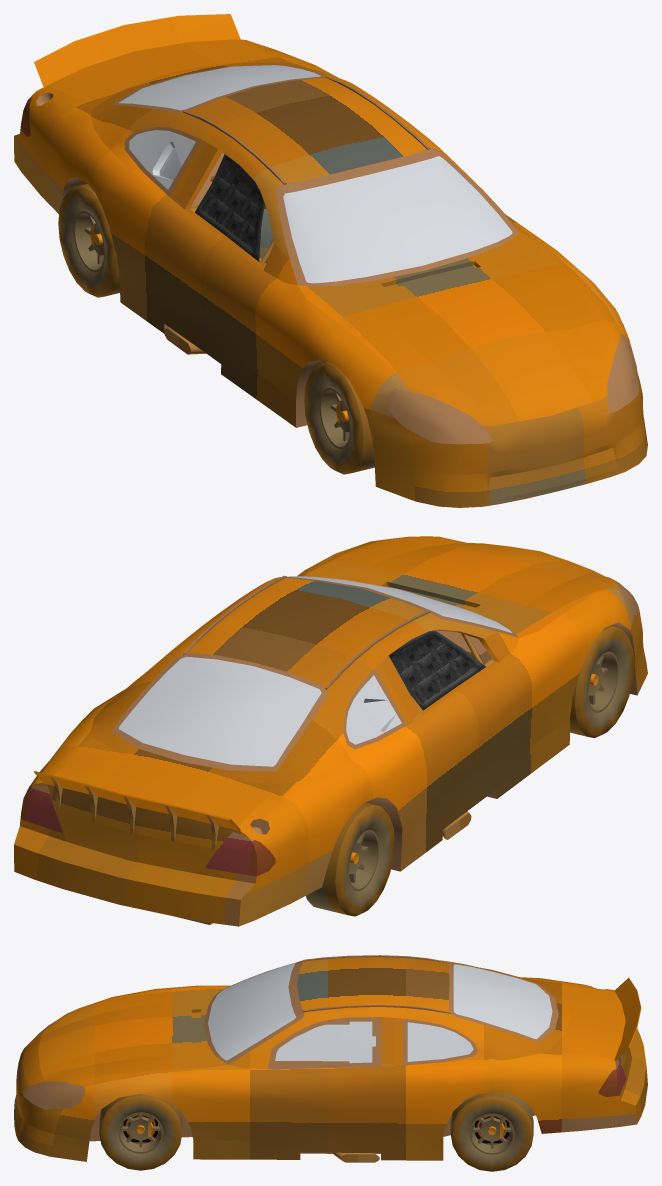
The model's file is TAURUS_STOCK_D.glb.
3 renders of one model, top to bottom at view 1: azimuth 30°, elevation 25°; view 2: azimuth 150°, elevation 25°; view 3: azimuth 270°, elevation 25°, orthographic. The views are drawn at different scales.
Visible parts, largest first — view 1: tree_node_2f9b74, WHEEL_STATIC_0x2f9eb4, WHEEL_STATIC_0x2f9dfc; view 2: tree_node_2f9b74, WHEEL_STATIC_0x2f9dfc, WHEEL_STATIC_0x2f9eb4; view 3: tree_node_2f9b74, WHEEL_STATIC_0x2fa024, WHEEL_STATIC_0x2f9f6c.
Boxes of the visible parts, left/top/right/bottom form: tree_node_2f9b74: left=14, top=14, right=647, bottom=507; WHEEL_STATIC_0x2f9eb4: left=304, top=362, right=374, bottom=474; WHEEL_STATIC_0x2f9dfc: left=58, top=184, right=119, bottom=297; tree_node_2f9b74: left=14, top=536, right=647, bottom=926; WHEEL_STATIC_0x2f9dfc: left=306, top=802, right=394, bottom=916; WHEEL_STATIC_0x2f9eb4: left=570, top=625, right=634, bottom=737; tree_node_2f9b74: left=14, top=955, right=647, bottom=1162; WHEEL_STATIC_0x2fa024: left=450, top=1092, right=533, bottom=1171; WHEEL_STATIC_0x2f9f6c: left=99, top=1094, right=182, bottom=1170.
Bounding box in the file's own units: 1.9 × 1.27 × 5.03.
Materials: 4 (3 with a texture image).
